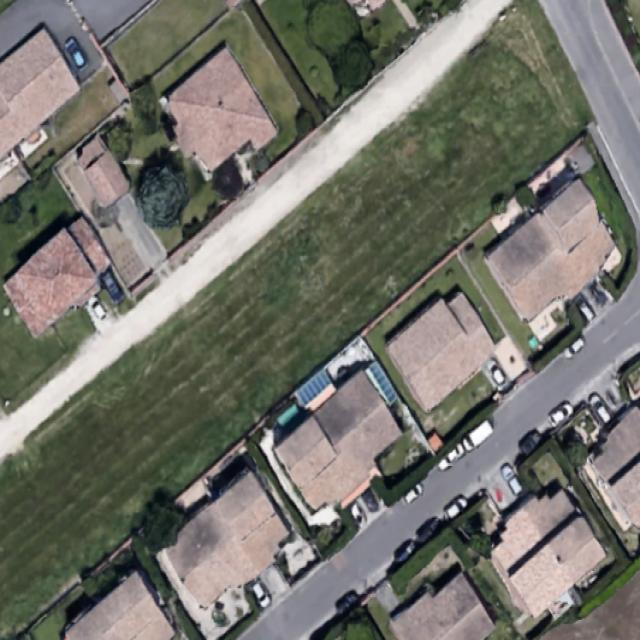maison: (263, 366, 419, 522), (476, 180, 628, 322), (151, 473, 301, 614), (472, 480, 615, 621), (147, 44, 280, 182), (375, 284, 507, 413), (0, 217, 121, 337), (56, 574, 176, 640), (386, 574, 495, 640)
